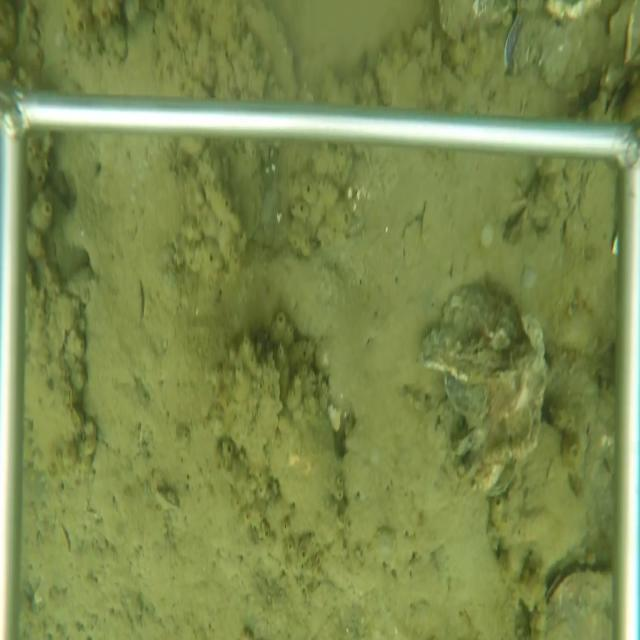Oyster-Closed: (29, 290, 100, 478), (542, 559, 605, 620)
Oyster-Indeterminate: (266, 373, 351, 563), (413, 276, 535, 387), (207, 334, 284, 459), (240, 1, 299, 99)
Oyster-Open: (595, 73, 630, 122), (495, 202, 526, 247)
